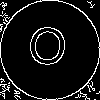O: (25, 25, 70, 76)
